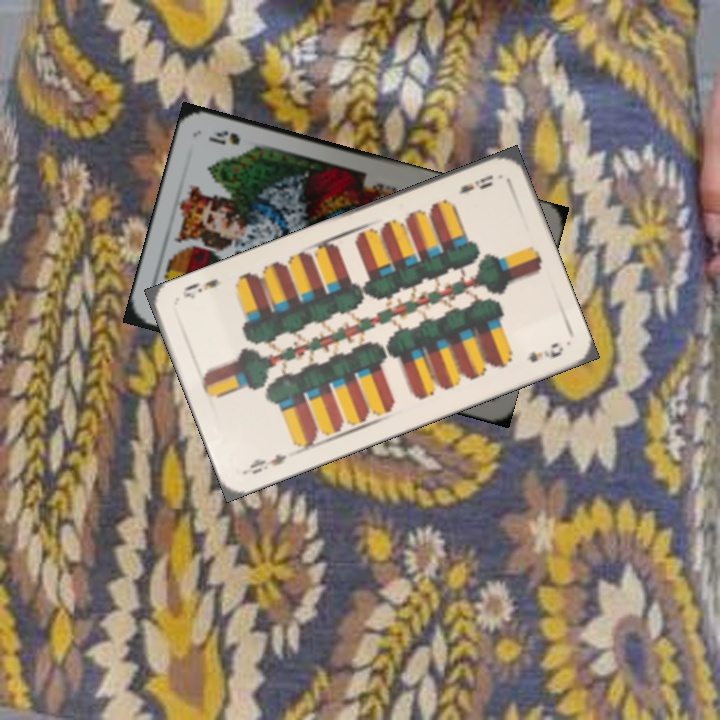E9: (241, 450, 289, 477), (454, 170, 496, 197)
